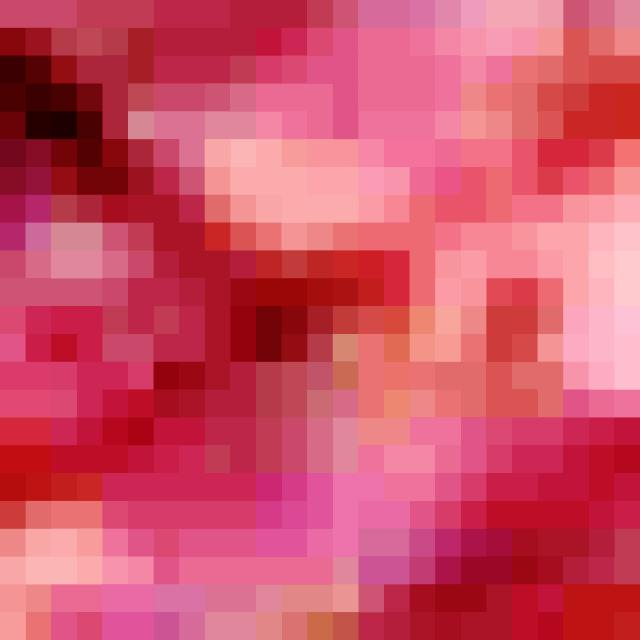arms: (486, 0, 640, 640)
